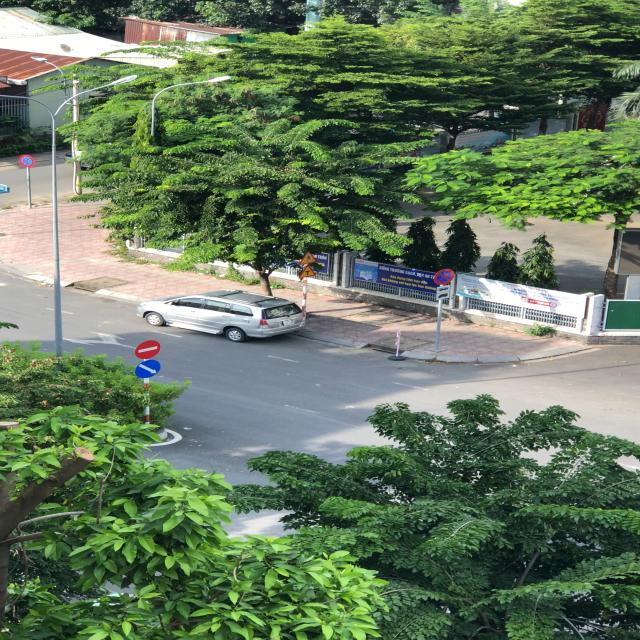Bien bao cam di nguoc chieu: (131, 338, 168, 360)
Bien bao cam dung xe va do xe: (433, 268, 458, 286)
Bien bao duong giao nhau: (297, 265, 320, 278)
Bien bao duong nguoi di bo cat ngang: (296, 250, 321, 264)
Bien bao huong phai di vong chuong ngai vat: (131, 360, 169, 380)
